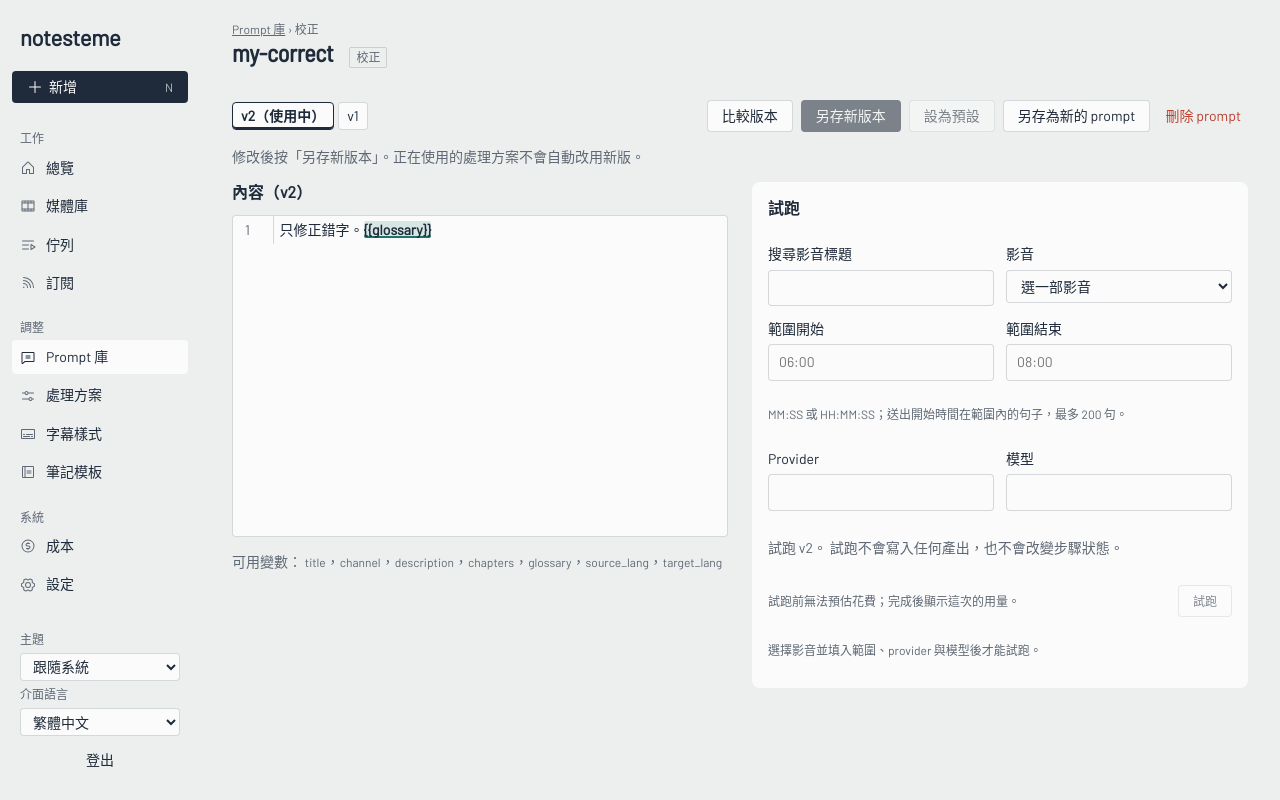
Scenario: Prompt 庫：編輯 › 刪除：先確認；仍被使用時列出使用者，不刪除
Expected: the heading "my-correct" is shown, x1=232 y1=39 x2=333 y2=68
Expected: the element named "版本" is shown, x1=232 y1=102 x2=368 y2=130
Click the button "刪除 prompt": (1203, 116) x1=1158 y1=100 x2=1248 y2=132
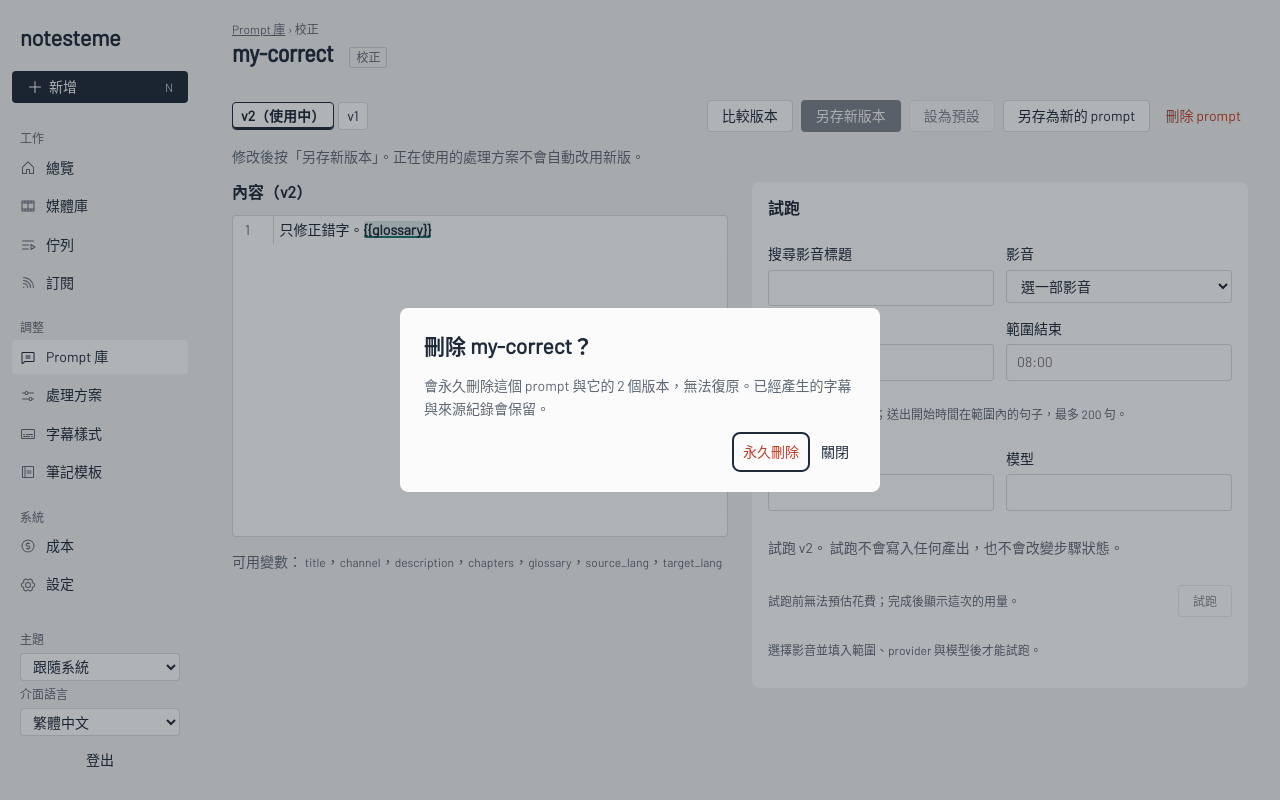
Result: the text "會永久刪除這個 prompt 與它的 2 個版本，無法復原。已經產生的字幕與來源紀錄會保留。" is shown at x1=424 y1=375 x2=856 y2=420
Click the button "永久刪除": (771, 452) x1=736 y1=436 x2=806 y2=468
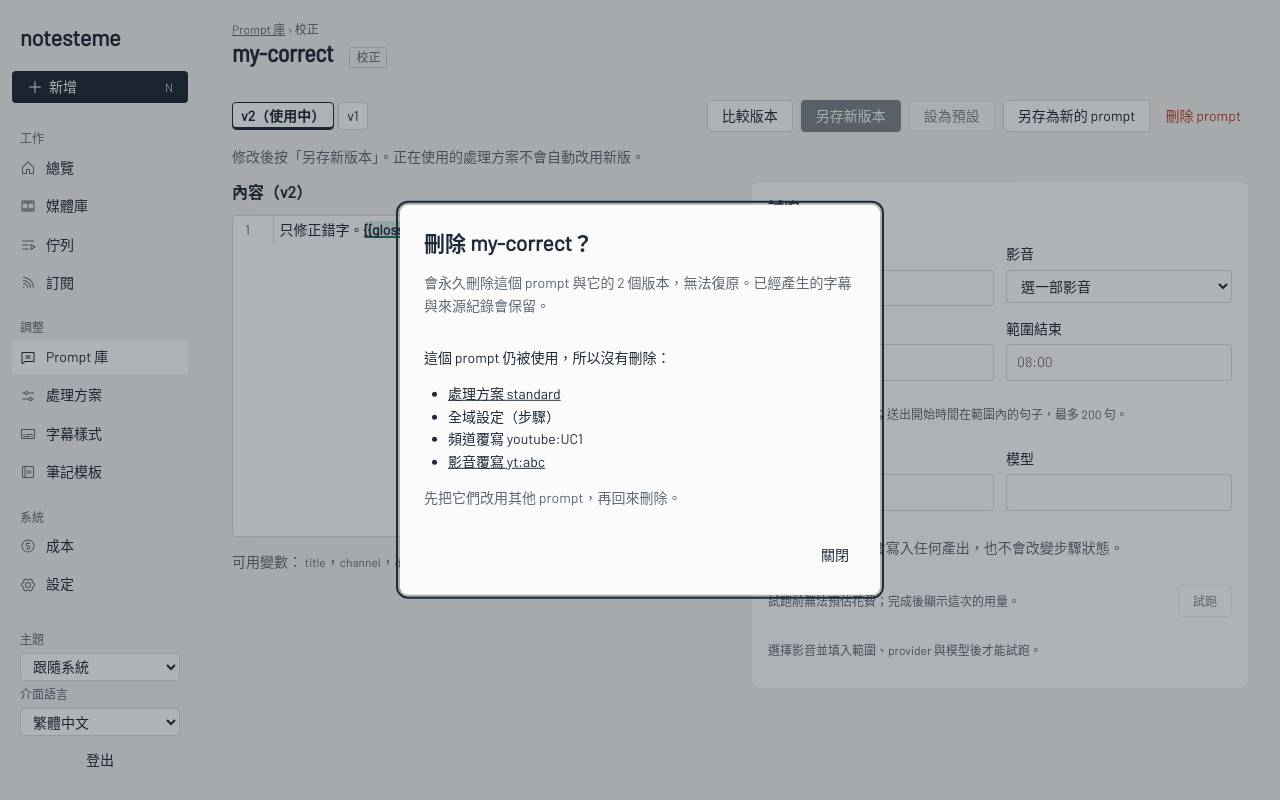
Result: the text "這個 prompt 仍被使用，所以沒有刪除：" is shown at x1=424 y1=349 x2=670 y2=366
Result: the link "處理方案 standard" is shown at x1=448 y1=385 x2=561 y2=402
Result: the list item "全域設定（步驟）" is shown at x1=448 y1=408 x2=560 y2=425
